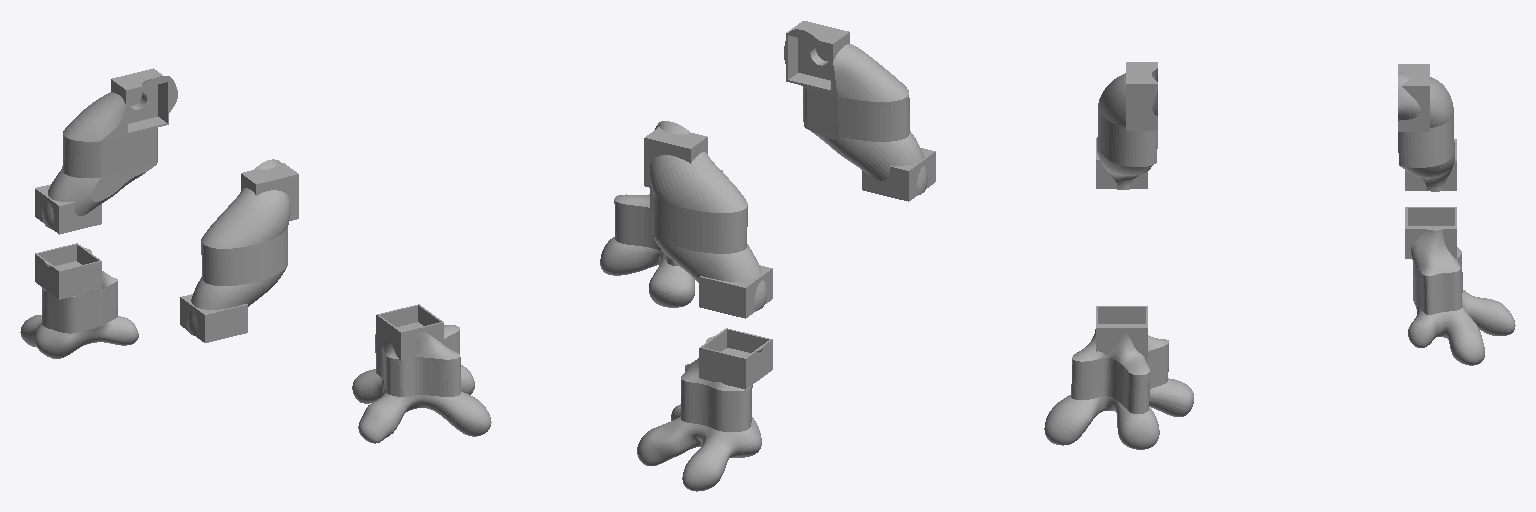
The robot description file, URDF, robot "FrogBot2_top-FrogBot2-z-8_bottom-FrogBot2-z-8":
<?xml version="1.0" ?>
<robot name="FrogBot2_top-FrogBot2-z-8_bottom-FrogBot2-z-8">

<material name="pla_5_percent_infill">
  <color rgba="0.700 0.700 0.700 1.000"/>
</material>

<link name="base_link">
  <inertial>
    <origin xyz="0 0 0" rpy="0 0 0"/>
    <mass value="1.3341577719423"/>
    <inertia ixx="0.0046797925109551535" iyy="0.011134478382956134" izz="0.010477176548232365" ixy="0.00012495104989682066" iyz="8.213962567094231e-05" ixz="-0.002474445058077273"/>
  </inertial>
  <visual>
    <origin xyz="0 0 0" rpy="0 0 0"/>
    <geometry>
      <mesh filename="simple_meshes/base_link.stl" scale="0.001 0.001 0.001"/>
    </geometry>
    <material name="pla_5_percent_infill"/>
  </visual>
  <collision>
    <origin xyz="0 0 0" rpy="0 0 0"/>
    <geometry>
      <mesh filename="simple_meshes/base_link.stl" scale="0.001 0.001 0.001"/>
    </geometry>
  </collision>
</link>

<link name="body_1_0_1">
  <inertial>
    <origin xyz="-0.053395 -0.09218 -0.023663" rpy="0 0 0"/>
    <mass value="0.06814154978757148"/>
    <inertia ixx="0.00013537145184695483" iyy="0.00013871673360298786" izz="2.162234923148423e-05" ixy="-1.1893400734500504e-07" iyz="7.680102280873584e-06" ixz="1.0520899892418287e-05"/>
  </inertial>
  <visual>
    <origin xyz="-0.053395 -0.09218 -0.023663" rpy="0 0 0"/>
    <geometry>
      <mesh filename="simple_meshes/body_1_0_1.stl" scale="0.001 0.001 0.001"/>
    </geometry>
    <material name="pla_5_percent_infill"/>
  </visual>
  <collision>
    <origin xyz="-0.053395 -0.09218 -0.023663" rpy="0 0 0"/>
    <geometry>
      <mesh filename="simple_meshes/body_1_0_1.stl" scale="0.001 0.001 0.001"/>
    </geometry>
  </collision>
</link>

<link name="body_1_1_1">
  <inertial>
    <origin xyz="0.095032 -0.09218 0.005345" rpy="0 0 0"/>
    <mass value="0.15365187434857747"/>
    <inertia ixx="0.00017340876242353956" iyy="0.0002611960943707291" izz="0.00014421970369857002" ixy="6.497651927073363e-06" iyz="7.760907543795641e-06" ixz="-6.000667032730997e-05"/>
  </inertial>
  <visual>
    <origin xyz="0.095032 -0.09218 0.005345" rpy="0 0 0"/>
    <geometry>
      <mesh filename="simple_meshes/body_1_1_1.stl" scale="0.001 0.001 0.001"/>
    </geometry>
    <material name="pla_5_percent_infill"/>
  </visual>
  <collision>
    <origin xyz="0.095032 -0.09218 0.005345" rpy="0 0 0"/>
    <geometry>
      <mesh filename="simple_meshes/body_1_1_1.stl" scale="0.001 0.001 0.001"/>
    </geometry>
  </collision>
</link>

<link name="body_1_2_1">
  <inertial>
    <origin xyz="-0.041549 0.09218 -0.043945" rpy="0 0 0"/>
    <mass value="0.07276939065307562"/>
    <inertia ixx="0.00021240073430951875" iyy="0.00021729068535138586" izz="3.270861784023297e-05" ixy="1.3340444662721064e-06" iyz="-2.504492009394282e-05" ixz="2.489489750349868e-05"/>
  </inertial>
  <visual>
    <origin xyz="-0.041549 0.09218 -0.043945" rpy="0 0 0"/>
    <geometry>
      <mesh filename="simple_meshes/body_1_2_1.stl" scale="0.001 0.001 0.001"/>
    </geometry>
    <material name="pla_5_percent_infill"/>
  </visual>
  <collision>
    <origin xyz="-0.041549 0.09218 -0.043945" rpy="0 0 0"/>
    <geometry>
      <mesh filename="simple_meshes/body_1_2_1.stl" scale="0.001 0.001 0.001"/>
    </geometry>
  </collision>
</link>

<link name="body_1_3_1">
  <inertial>
    <origin xyz="0.087142 0.09218 -0.003397" rpy="0 0 0"/>
    <mass value="0.15777222255282974"/>
    <inertia ixx="0.0001788959299846727" iyy="0.00026497252761673723" izz="0.00014655565403617465" ixy="-1.1479040102701111e-05" iyz="-7.912421385118966e-06" ixz="-6.025752404703133e-05"/>
  </inertial>
  <visual>
    <origin xyz="0.087142 0.09218 -0.003397" rpy="0 0 0"/>
    <geometry>
      <mesh filename="simple_meshes/body_1_3_1.stl" scale="0.001 0.001 0.001"/>
    </geometry>
    <material name="pla_5_percent_infill"/>
  </visual>
  <collision>
    <origin xyz="0.087142 0.09218 -0.003397" rpy="0 0 0"/>
    <geometry>
      <mesh filename="simple_meshes/body_1_3_1.stl" scale="0.001 0.001 0.001"/>
    </geometry>
  </collision>
</link>

<link name="body_2_0_1">
  <inertial>
    <origin xyz="-0.065654 -0.139685 0.134558" rpy="0 0 0"/>
    <mass value="0.17814034027727563"/>
    <inertia ixx="0.0002454353821570252" iyy="0.0002423156395669583" izz="0.0002842731163755288" ixy="-2.3385370496124564e-05" iyz="1.460534598042313e-05" ixz="1.101516131020398e-05"/>
  </inertial>
  <visual>
    <origin xyz="-0.065654 -0.139685 0.134558" rpy="0 0 0"/>
    <geometry>
      <mesh filename="simple_meshes/body_2_0_1.stl" scale="0.001 0.001 0.001"/>
    </geometry>
    <material name="pla_5_percent_infill"/>
  </visual>
  <collision>
    <origin xyz="-0.065654 -0.139685 0.134558" rpy="0 0 0"/>
    <geometry>
      <mesh filename="simple_meshes/body_2_0_1.stl" scale="0.001 0.001 0.001"/>
    </geometry>
  </collision>
</link>

<link name="body_2_1_1">
  <inertial>
    <origin xyz="0.15751 -0.143533 0.134558" rpy="0 0 0"/>
    <mass value="0.11852013298208738"/>
    <inertia ixx="0.000141351003861874" iyy="0.0001623230115326505" izz="0.00011599226785034313" ixy="-1.7655306323730371e-07" iyz="3.302097258900145e-05" ixz="1.823208663632352e-05"/>
  </inertial>
  <visual>
    <origin xyz="0.15751 -0.143533 0.134558" rpy="0 0 0"/>
    <geometry>
      <mesh filename="simple_meshes/body_2_1_1.stl" scale="0.001 0.001 0.001"/>
    </geometry>
    <material name="pla_5_percent_infill"/>
  </visual>
  <collision>
    <origin xyz="0.15751 -0.143533 0.134558" rpy="0 0 0"/>
    <geometry>
      <mesh filename="simple_meshes/body_2_1_1.stl" scale="0.001 0.001 0.001"/>
    </geometry>
  </collision>
</link>

<link name="body_2_2_1">
  <inertial>
    <origin xyz="-0.061161 0.145934 0.134558" rpy="0 0 0"/>
    <mass value="0.15769453693420263"/>
    <inertia ixx="0.00020753980291909196" iyy="0.00022075028603870013" izz="0.00024270931472008834" ixy="1.097265565082003e-05" iyz="-6.460750375560098e-06" ixz="2.371711689151332e-06"/>
  </inertial>
  <visual>
    <origin xyz="-0.061161 0.145934 0.134558" rpy="0 0 0"/>
    <geometry>
      <mesh filename="simple_meshes/body_2_2_1.stl" scale="0.001 0.001 0.001"/>
    </geometry>
    <material name="pla_5_percent_infill"/>
  </visual>
  <collision>
    <origin xyz="-0.061161 0.145934 0.134558" rpy="0 0 0"/>
    <geometry>
      <mesh filename="simple_meshes/body_2_2_1.stl" scale="0.001 0.001 0.001"/>
    </geometry>
  </collision>
</link>

<link name="body_2_3_1">
  <inertial>
    <origin xyz="0.160089 0.145768 0.134558" rpy="0 0 0"/>
    <mass value="0.1101515142591981"/>
    <inertia ixx="0.0001489325672298647" iyy="0.00015540734173175377" izz="0.00011312369392036357" ixy="-6.041758133811404e-06" iyz="-3.9084206096288467e-05" ixz="1.93109332900618e-05"/>
  </inertial>
  <visual>
    <origin xyz="0.160089 0.145768 0.134558" rpy="0 0 0"/>
    <geometry>
      <mesh filename="simple_meshes/body_2_3_1.stl" scale="0.001 0.001 0.001"/>
    </geometry>
    <material name="pla_5_percent_infill"/>
  </visual>
  <collision>
    <origin xyz="0.160089 0.145768 0.134558" rpy="0 0 0"/>
    <geometry>
      <mesh filename="simple_meshes/body_2_3_1.stl" scale="0.001 0.001 0.001"/>
    </geometry>
  </collision>
</link>

<joint name="joint_1_0" type="revolute">
  <origin xyz="0.053395 0.09218 0.023663" rpy="0 0 0"/>
  <parent link="base_link"/>
  <child link="body_1_0_1"/>
  <axis xyz="0.0 1.0 0.0"/>
  <limit upper="1.2" lower="-1.2" effort="3.8" velocity="5.4"/>
</joint>
<transmission name="joint_1_0_tran">
  <type>transmission_interface/SimpleTransmission</type>
  <joint name="joint_1_0">
    <hardwareInterface>PositionJointInterface</hardwareInterface>
  </joint>
  <actuator name="joint_1_0_actr">
    <hardwareInterface>PositionJointInterface</hardwareInterface>
    <mechanicalReduction>1</mechanicalReduction>
  </actuator>
</transmission>

<joint name="joint_1_1" type="revolute">
  <origin xyz="-0.095032 0.09218 -0.005345" rpy="0 0 0"/>
  <parent link="base_link"/>
  <child link="body_1_1_1"/>
  <axis xyz="0.0 1.0 0.0"/>
  <limit upper="1.2" lower="-1.2" effort="3.8" velocity="5.4"/>
</joint>
<transmission name="joint_1_1_tran">
  <type>transmission_interface/SimpleTransmission</type>
  <joint name="joint_1_1">
    <hardwareInterface>PositionJointInterface</hardwareInterface>
  </joint>
  <actuator name="joint_1_1_actr">
    <hardwareInterface>PositionJointInterface</hardwareInterface>
    <mechanicalReduction>1</mechanicalReduction>
  </actuator>
</transmission>

<joint name="joint_1_2" type="revolute">
  <origin xyz="0.041549 -0.09218 0.043945" rpy="0 0 0"/>
  <parent link="base_link"/>
  <child link="body_1_2_1"/>
  <axis xyz="0.0 1.0 0.0"/>
  <limit upper="1.2" lower="-1.2" effort="3.8" velocity="5.4"/>
</joint>
<transmission name="joint_1_2_tran">
  <type>transmission_interface/SimpleTransmission</type>
  <joint name="joint_1_2">
    <hardwareInterface>PositionJointInterface</hardwareInterface>
  </joint>
  <actuator name="joint_1_2_actr">
    <hardwareInterface>PositionJointInterface</hardwareInterface>
    <mechanicalReduction>1</mechanicalReduction>
  </actuator>
</transmission>

<joint name="joint_1_3" type="revolute">
  <origin xyz="-0.087142 -0.09218 0.003397" rpy="0 0 0"/>
  <parent link="base_link"/>
  <child link="body_1_3_1"/>
  <axis xyz="0.0 1.0 0.0"/>
  <limit upper="1.2" lower="-1.2" effort="3.8" velocity="5.4"/>
</joint>
<transmission name="joint_1_3_tran">
  <type>transmission_interface/SimpleTransmission</type>
  <joint name="joint_1_3">
    <hardwareInterface>PositionJointInterface</hardwareInterface>
  </joint>
  <actuator name="joint_1_3_actr">
    <hardwareInterface>PositionJointInterface</hardwareInterface>
    <mechanicalReduction>1</mechanicalReduction>
  </actuator>
</transmission>

<joint name="joint_2_0" type="revolute">
  <origin xyz="0.012259 0.047505 -0.158221" rpy="0 0 0"/>
  <parent link="body_1_0_1"/>
  <child link="body_2_0_1"/>
  <axis xyz="0.0 0.0 1.0"/>
  <limit upper="1.2" lower="-1.2" effort="3.8" velocity="5.4"/>
</joint>
<transmission name="joint_2_0_tran">
  <type>transmission_interface/SimpleTransmission</type>
  <joint name="joint_2_0">
    <hardwareInterface>PositionJointInterface</hardwareInterface>
  </joint>
  <actuator name="joint_2_0_actr">
    <hardwareInterface>PositionJointInterface</hardwareInterface>
    <mechanicalReduction>1</mechanicalReduction>
  </actuator>
</transmission>

<joint name="joint_2_1" type="revolute">
  <origin xyz="-0.062478 0.051353 -0.129213" rpy="0 0 0"/>
  <parent link="body_1_1_1"/>
  <child link="body_2_1_1"/>
  <axis xyz="0.0 0.0 1.0"/>
  <limit upper="1.2" lower="-1.2" effort="3.8" velocity="5.4"/>
</joint>
<transmission name="joint_2_1_tran">
  <type>transmission_interface/SimpleTransmission</type>
  <joint name="joint_2_1">
    <hardwareInterface>PositionJointInterface</hardwareInterface>
  </joint>
  <actuator name="joint_2_1_actr">
    <hardwareInterface>PositionJointInterface</hardwareInterface>
    <mechanicalReduction>1</mechanicalReduction>
  </actuator>
</transmission>

<joint name="joint_2_2" type="revolute">
  <origin xyz="0.019612 -0.053754 -0.178503" rpy="0 0 0"/>
  <parent link="body_1_2_1"/>
  <child link="body_2_2_1"/>
  <axis xyz="0.0 0.0 1.0"/>
  <limit upper="1.2" lower="-1.2" effort="3.8" velocity="5.4"/>
</joint>
<transmission name="joint_2_2_tran">
  <type>transmission_interface/SimpleTransmission</type>
  <joint name="joint_2_2">
    <hardwareInterface>PositionJointInterface</hardwareInterface>
  </joint>
  <actuator name="joint_2_2_actr">
    <hardwareInterface>PositionJointInterface</hardwareInterface>
    <mechanicalReduction>1</mechanicalReduction>
  </actuator>
</transmission>

<joint name="joint_2_3" type="revolute">
  <origin xyz="-0.072947 -0.053588 -0.137955" rpy="0 0 0"/>
  <parent link="body_1_3_1"/>
  <child link="body_2_3_1"/>
  <axis xyz="0.0 0.0 1.0"/>
  <limit upper="1.2" lower="-1.2" effort="3.8" velocity="5.4"/>
</joint>
<transmission name="joint_2_3_tran">
  <type>transmission_interface/SimpleTransmission</type>
  <joint name="joint_2_3">
    <hardwareInterface>PositionJointInterface</hardwareInterface>
  </joint>
  <actuator name="joint_2_3_actr">
    <hardwareInterface>PositionJointInterface</hardwareInterface>
    <mechanicalReduction>1</mechanicalReduction>
  </actuator>
</transmission>

</robot>

--- Render facts (derived) ---
The picture shows the robot from 3 angles, left to right: view 1: azimuth 30°, elevation 25°; view 2: azimuth 150°, elevation 25°; view 3: azimuth 270°, elevation 25°; orthographic projection.
Robot: FrogBot2_top-FrogBot2-z-8_bottom-FrogBot2-z-8 — 9 links, 8 joints (8 revolute); root link base_link; default pose: all joints at 0.
Visible links, largest first — view 1: body_1_1_1, body_1_3_1, body_2_2_1, body_2_1_1; view 2: body_1_3_1, body_1_1_1, body_2_1_1, body_2_2_1; view 3: body_2_2_1, body_2_1_1, body_1_3_1, body_1_1_1.
Boxes of the visible links, bbox=[...] form: body_1_1_1: bbox=[35, 68, 177, 234]; body_1_3_1: bbox=[180, 159, 298, 342]; body_2_2_1: bbox=[352, 304, 491, 443]; body_2_1_1: bbox=[20, 243, 138, 358]; body_1_3_1: bbox=[784, 21, 935, 201]; body_1_1_1: bbox=[644, 121, 772, 318]; body_2_1_1: bbox=[637, 328, 772, 491]; body_2_2_1: bbox=[600, 170, 722, 307]; body_2_2_1: bbox=[1044, 306, 1193, 449]; body_2_1_1: bbox=[1405, 207, 1515, 365]; body_1_3_1: bbox=[1096, 62, 1157, 189]; body_1_1_1: bbox=[1398, 64, 1456, 191].
Bounding box of the posed robot: 0.3257 × 0.4411 × 0.3099 m (x, y, z).
Meshes: 9 distinct files referenced, 4 mesh visuals loaded (4 binary STL); not drawn: 5 (reference not matched to a file when rendering).